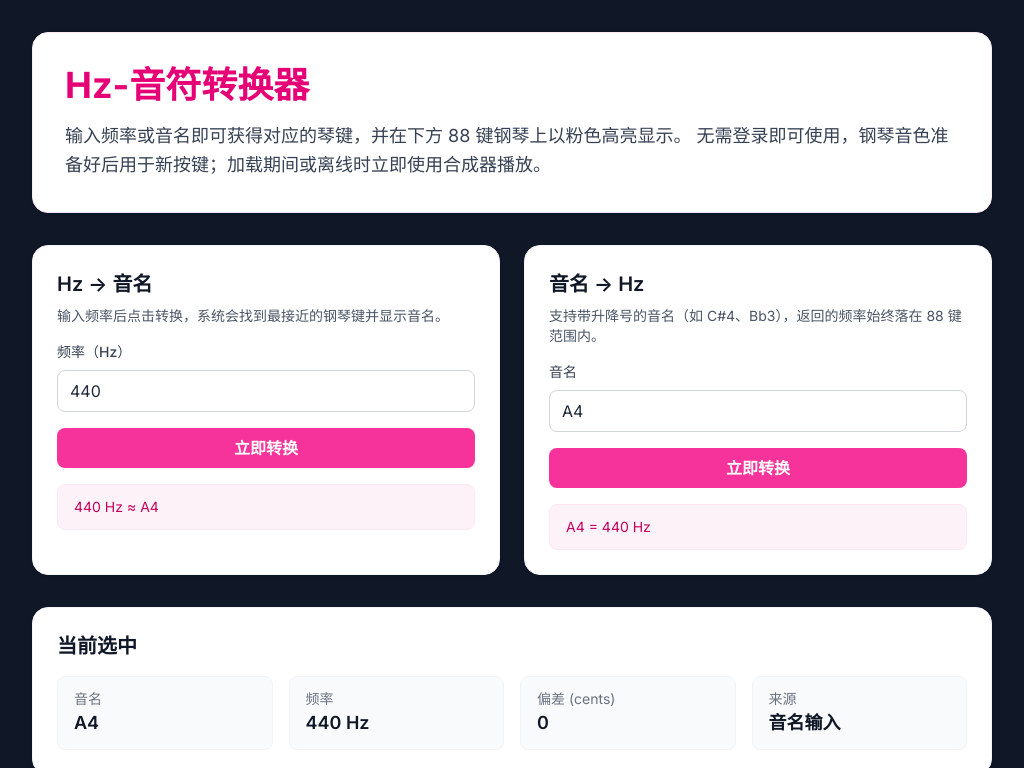
it: Bb3转换的等式与输入、高亮琴键一致
The image size is (1024, 768).
Replace the text in the field labelled "音名" with "Bb3" at (758, 410), box top-left (549, 390), bottom-right (967, 432)
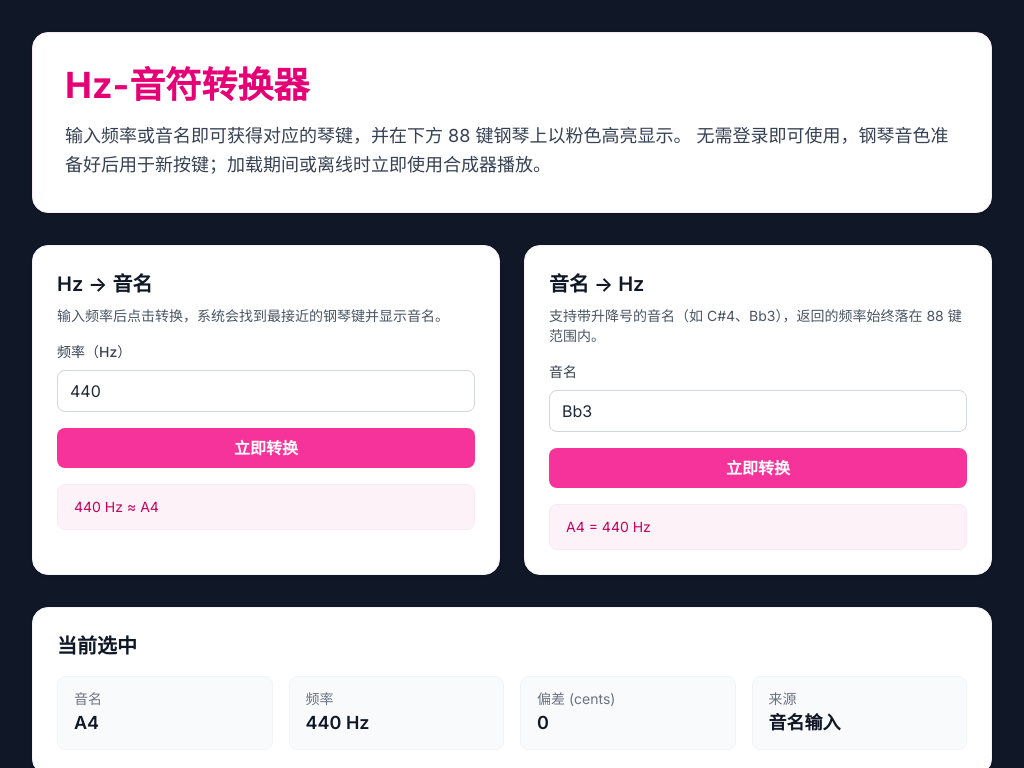
Submit the form "音名", box top-left (524, 244), bottom-right (992, 574)
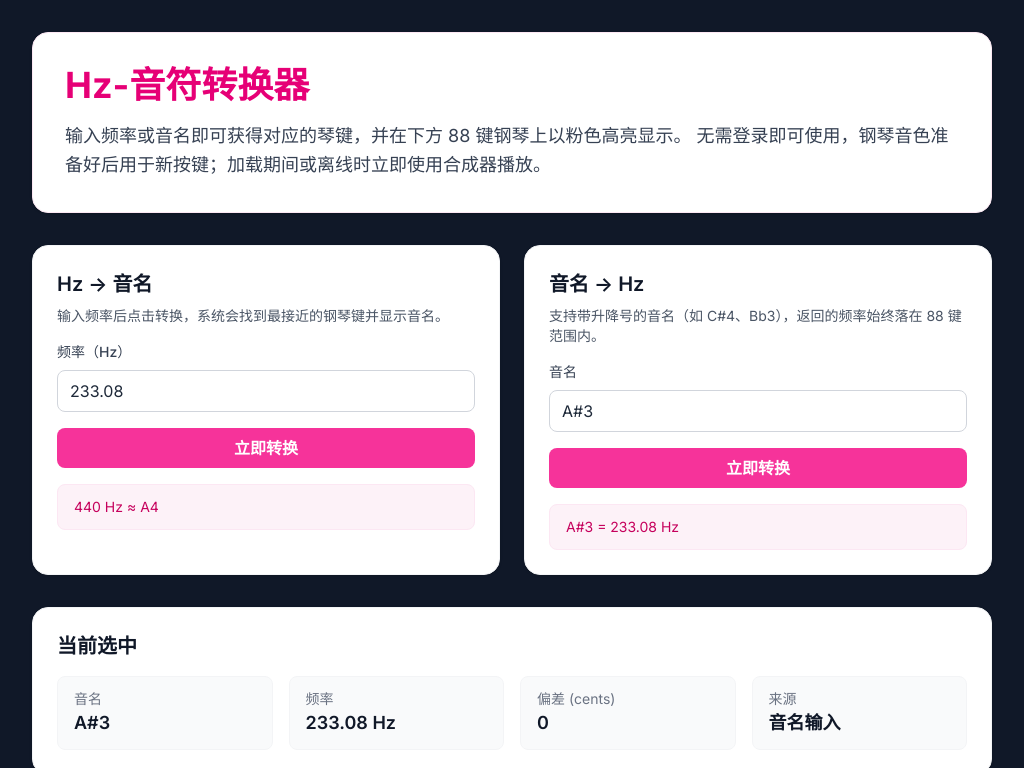
Expected: the field labelled "音名" holds "A#3", top-left (549, 390), bottom-right (967, 432)
Expected: the field labelled "频率（Hz）" holds "233.08", top-left (57, 370), bottom-right (475, 412)
